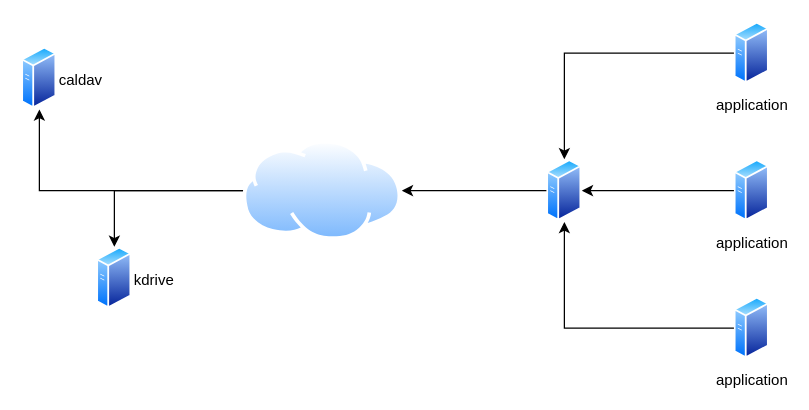
Image size: 809x410. Some labels were removed from this diagram. The centre of each missing label's shape, as x and y in pixels:
"middleware" belongs at [563,190].
"WAN" belongs at [321,190].
